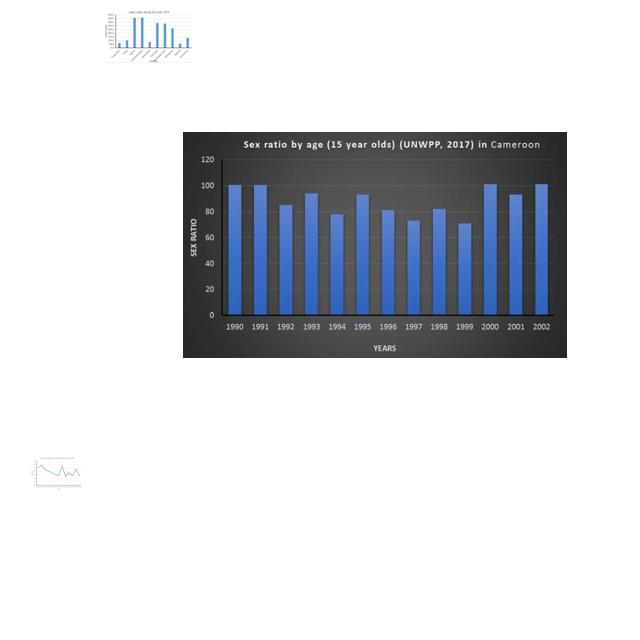Graph: (183, 132, 567, 358), (104, 10, 193, 63), (30, 457, 82, 490)
